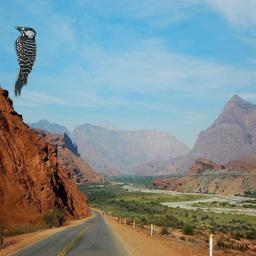Woodpecker: (13, 25, 38, 97)
